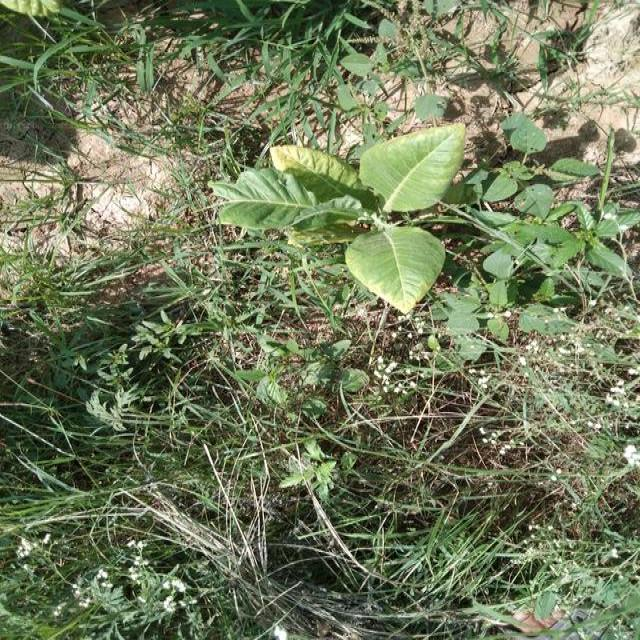crop: (239, 128, 468, 308)
